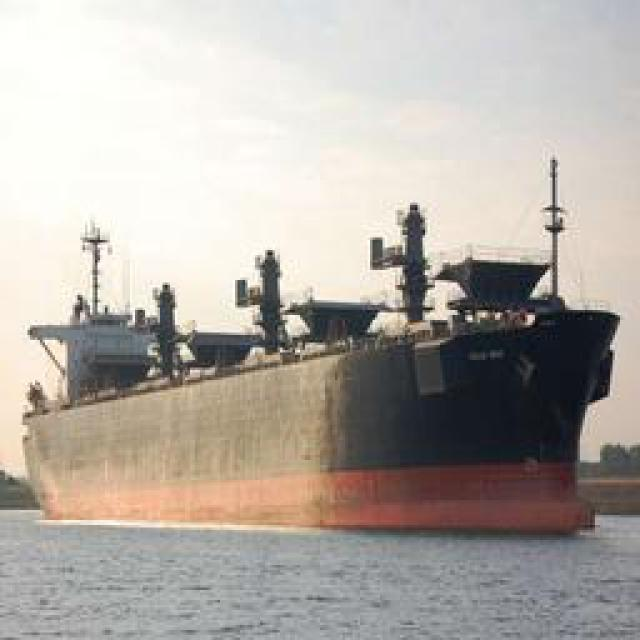Ship: (25, 208, 618, 536)
